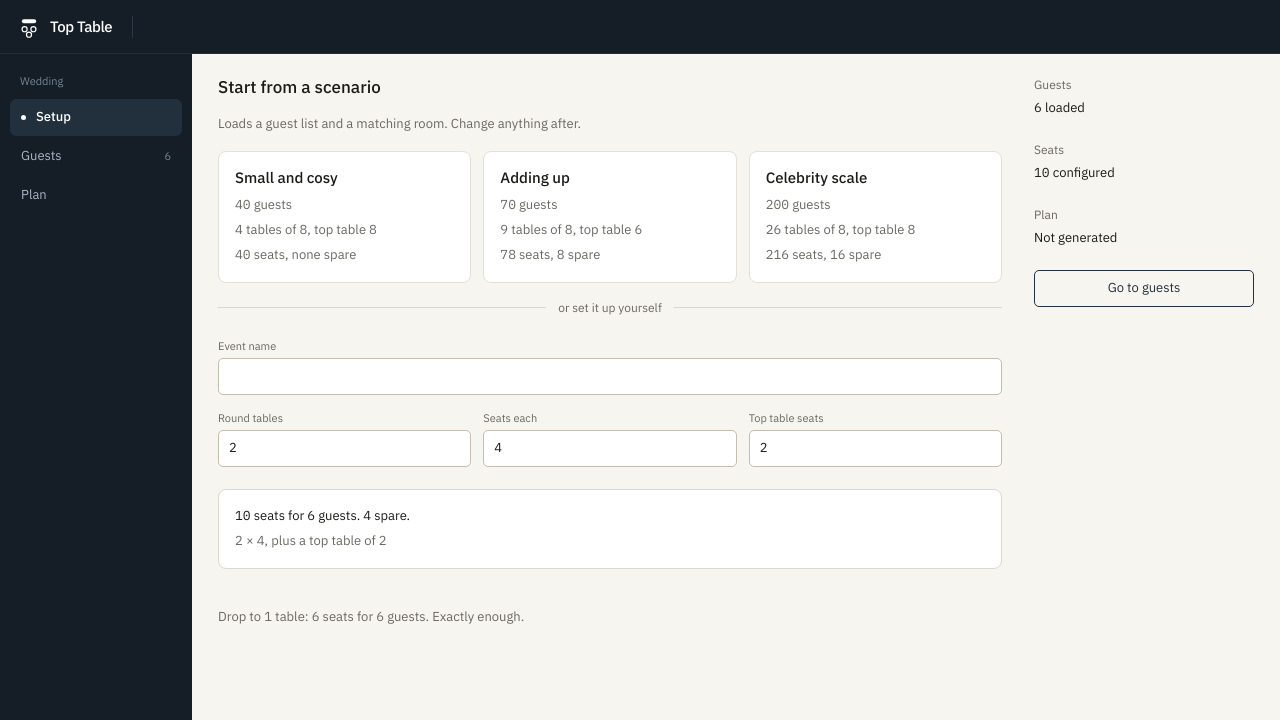
it: AC1 — "Clear allocation" returns every unpinned seated guest to the rail › with spare capacity: after Auto-allocate, clearing empties every table and the rail gains every guest
Click the button "Plan": {"x": 96, "y": 195} [10,177,182,214]
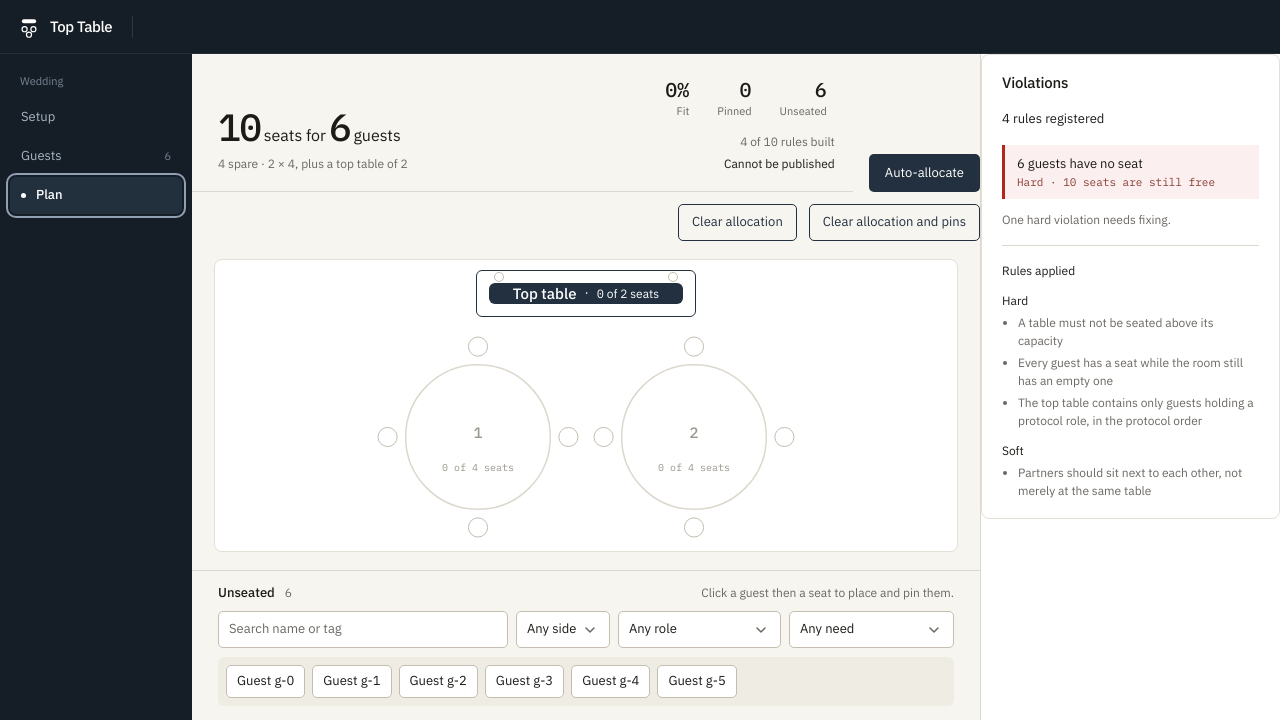
Click the button "Auto-allocate": {"x": 924, "y": 173} [869,154,980,192]
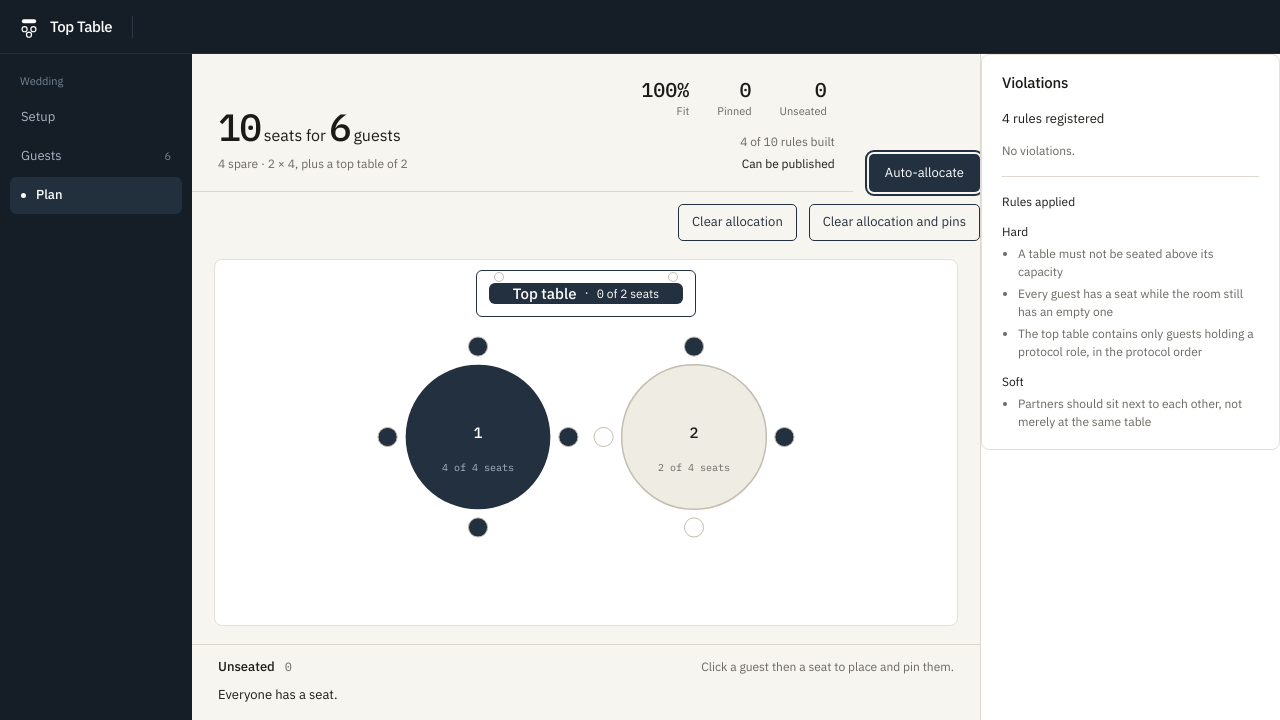
Click the button "Clear allocation": {"x": 737, "y": 223} [678,204,797,241]
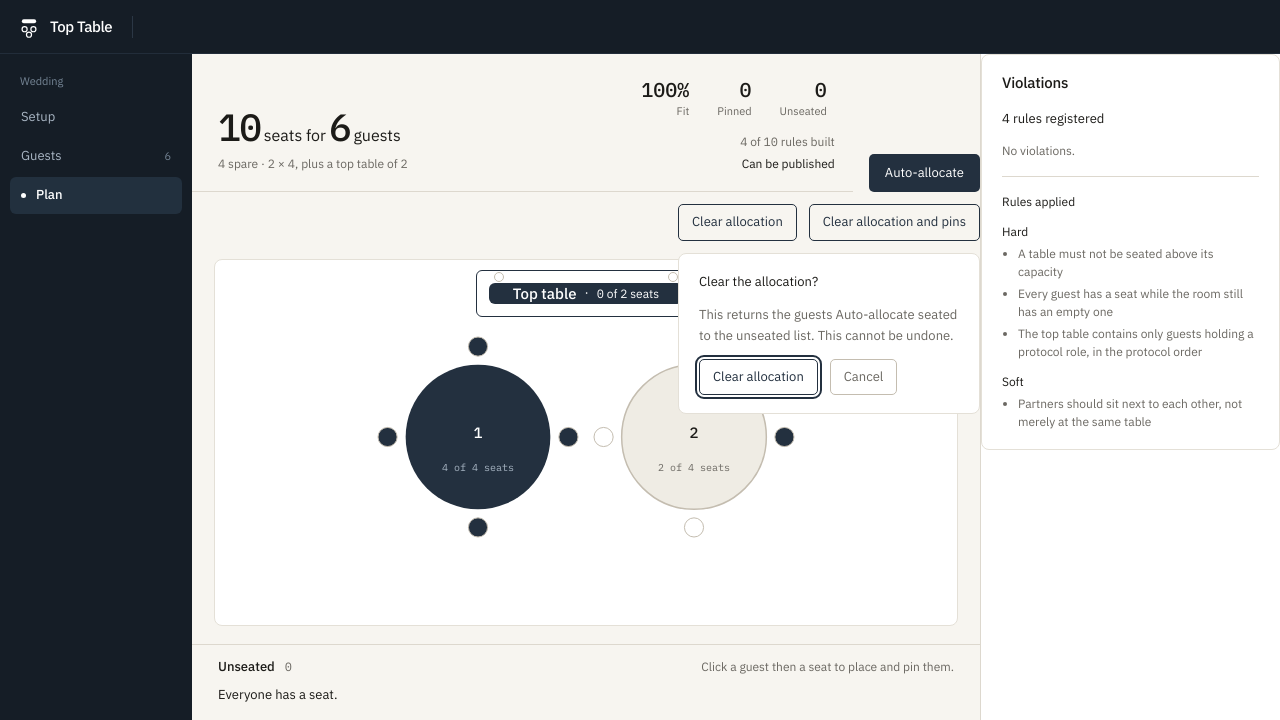
Click the button "Clear allocation" below "Clear the allocation?": {"x": 758, "y": 377} [699,359,818,395]
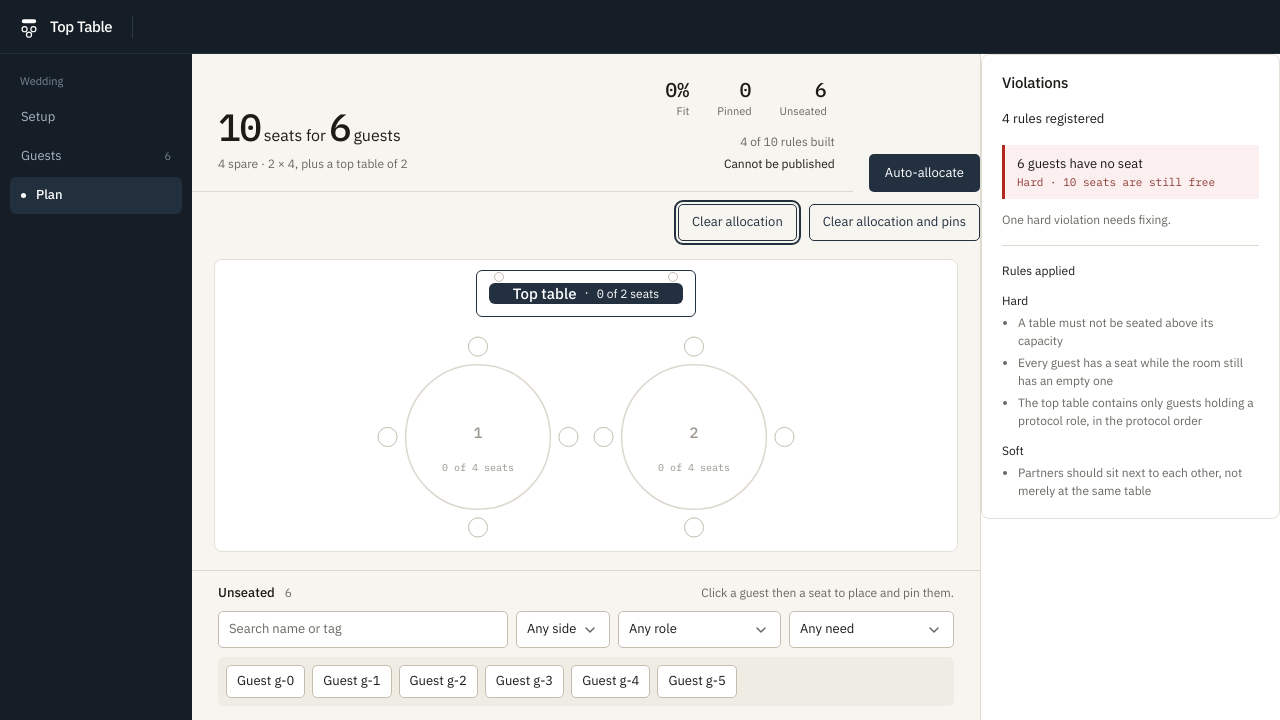
Check: the button "Guest g-0" is shown, box [226,665,305,698]
Check: the button "Guest g-5" is shown, box [657,665,737,698]
